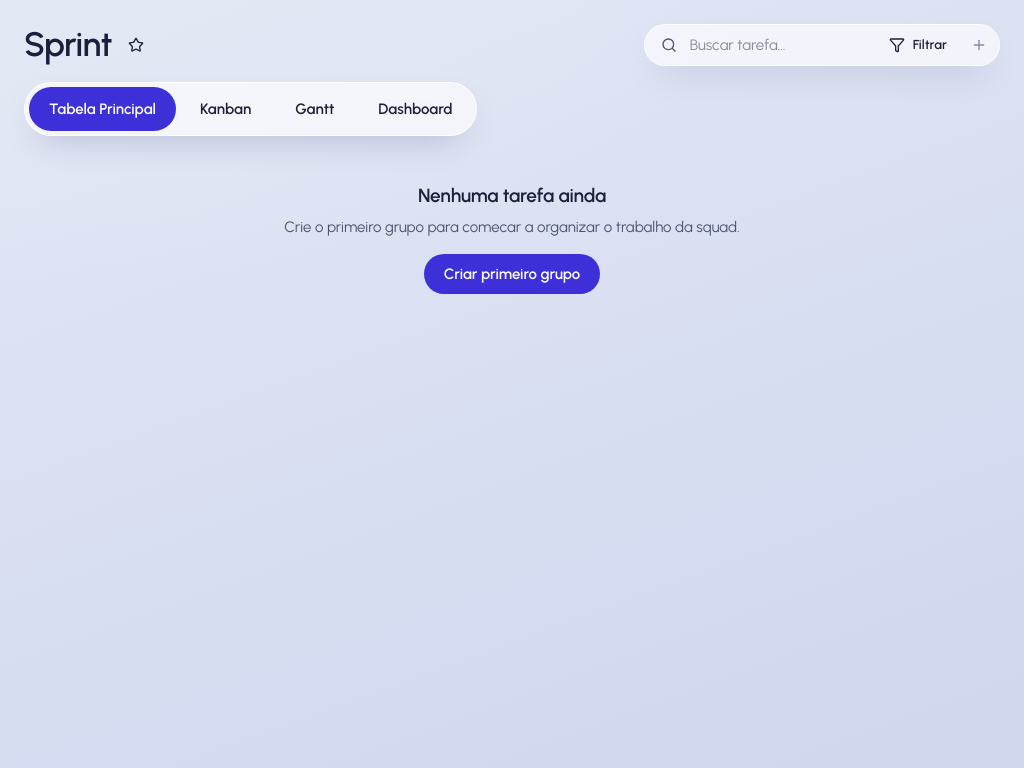
Test: grupos na tabela principal › board sem nenhum grupo: "Criar primeiro grupo" abre o modal (antes era um botão morto)
Click the button "Criar primeiro grupo".
click(512, 274)  # box x1=424 y1=254 x2=600 y2=294
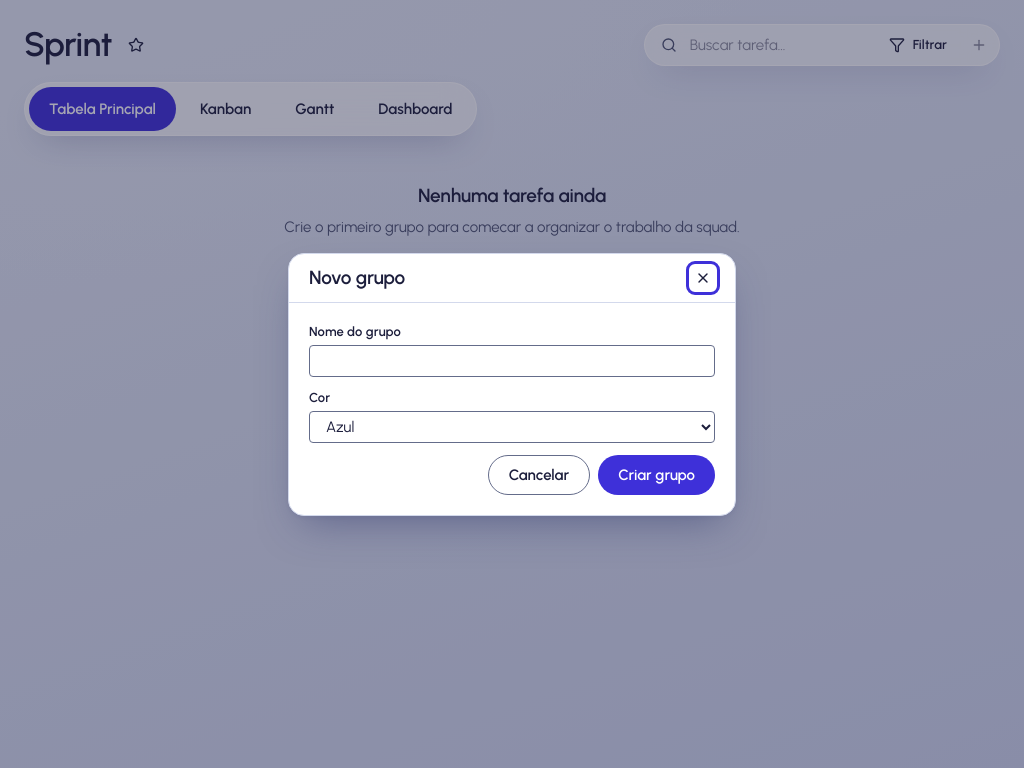
Now the dialog "Novo grupo" is shown, box x1=288 y1=252 x2=736 y2=516
